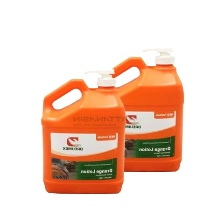book: (39, 65, 128, 196), (100, 44, 186, 173)
